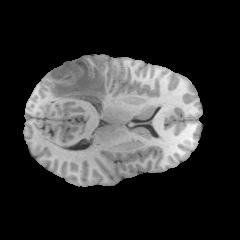glioma: (48, 59, 107, 105)
